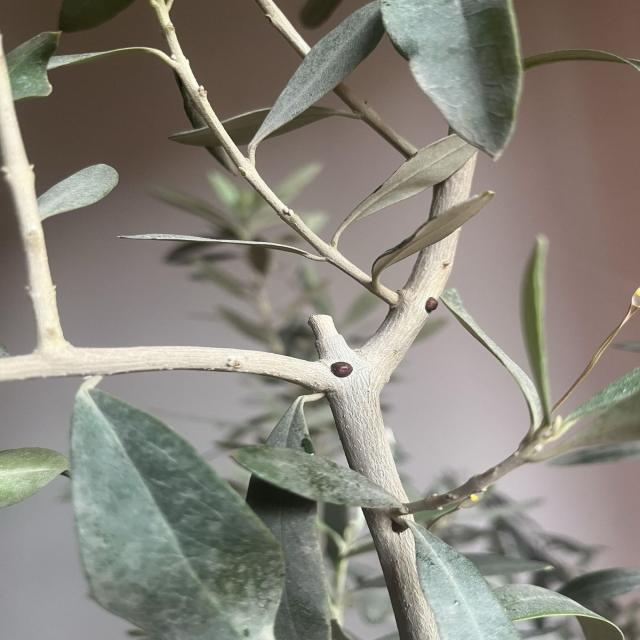BlackScale: (330, 361, 351, 378), (425, 299, 440, 315)
